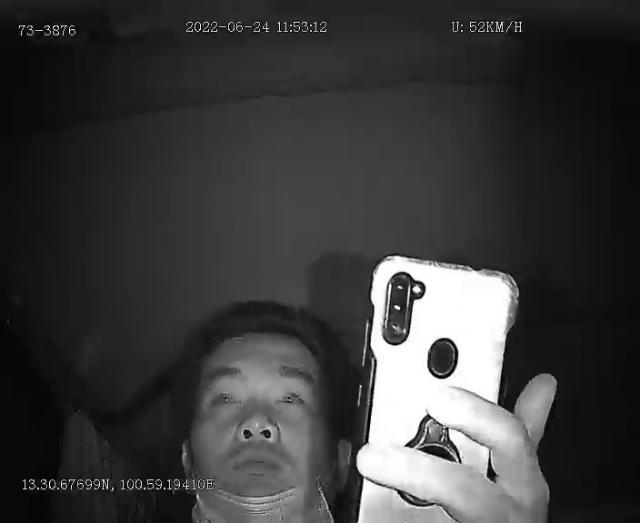PhoneUse: (353, 248, 525, 523)
SafeDriving: (269, 377, 313, 417), (204, 378, 247, 416)
